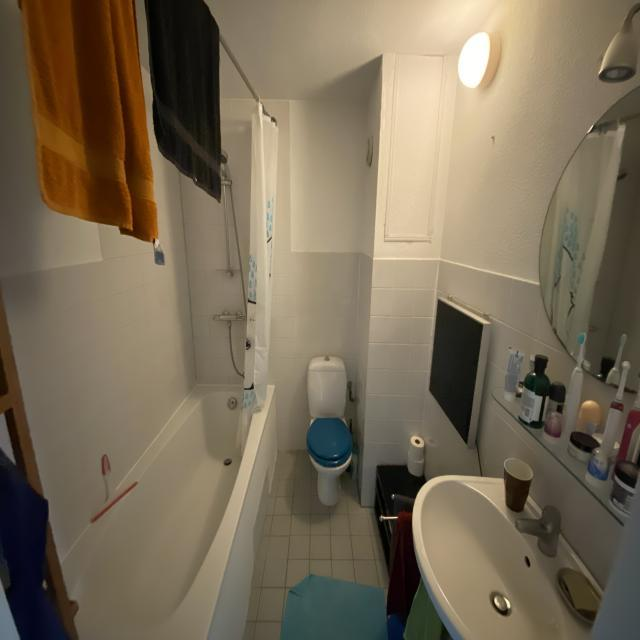bath: (56, 97, 280, 640)
toilet: (304, 356, 354, 508)
wastafel: (413, 475, 603, 640)
